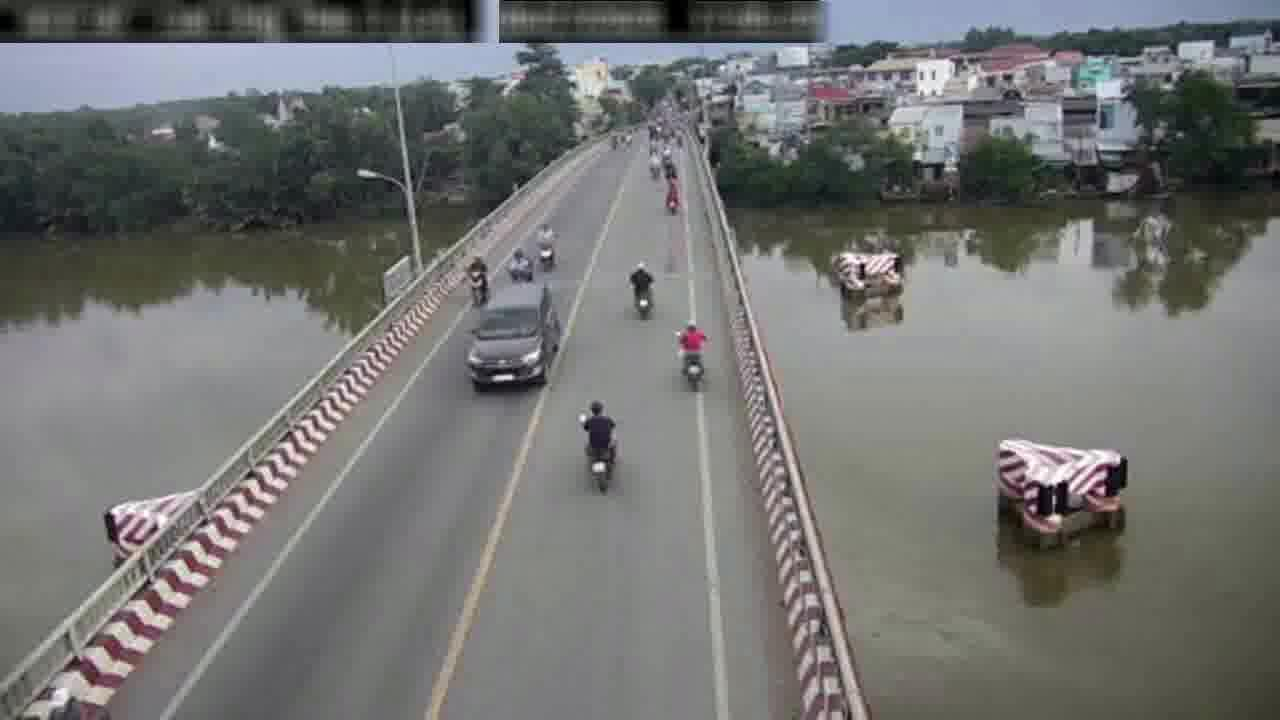container: (465, 280, 555, 393)
motorbike: (580, 398, 617, 492), (673, 312, 706, 390), (626, 255, 653, 320), (462, 251, 487, 307), (534, 218, 558, 272), (507, 240, 530, 286), (664, 174, 680, 215), (647, 150, 660, 179)
